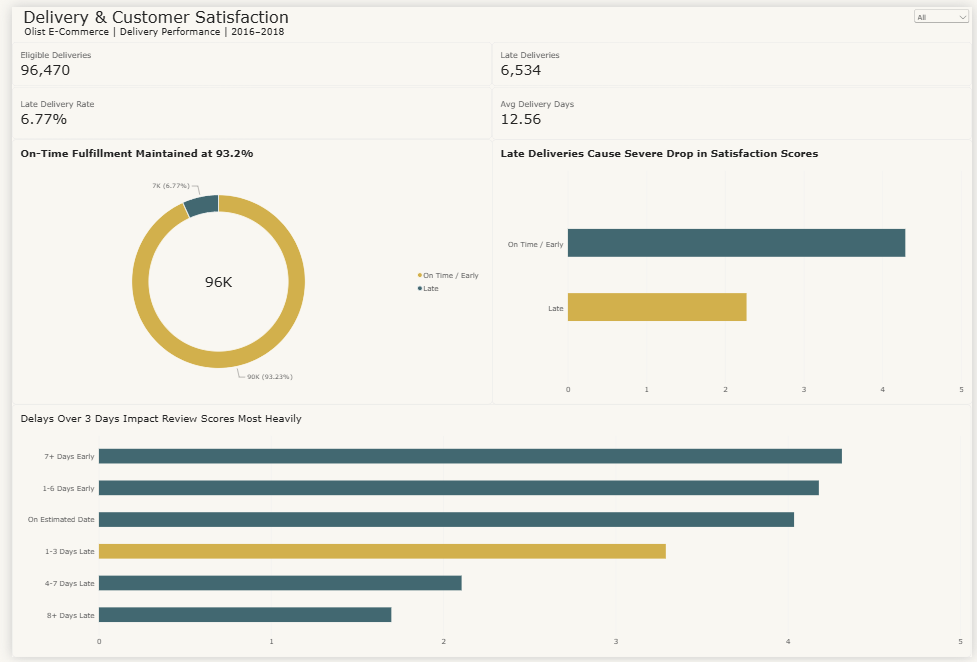

The page's visual inventory and layout, read from the dashboard file:
{"tool":"powerbi","page":{"name":"Delivery & Satisfaction","canvas":[1920,1300],"ordinal":3},"visuals":[{"type":"textbox","box":[0,0,1920,68],"z":0},{"type":"slicer","fields":{"Values":["Orders.purchase_year"]},"box":[1800.2,0,119.8,55.8],"z":1000},{"type":"cardVisual","fields":{"Data":["Buyer Segments.Eligible Deliveries"]},"box":[0,70.7,960.4,88.3],"z":2000},{"type":"cardVisual","fields":{"Data":["Buyer Segments.Late Deliveries"]},"box":[960.4,70.7,960.4,88.3],"z":3000},{"type":"cardVisual","fields":{"Data":["Buyer Segments.Late Delivery Rate"]},"box":[0,160,960,104],"z":4000},{"type":"cardVisual","fields":{"Data":["Buyer Segments.Avg Delivery Days"]},"box":[960.4,159,960.4,106],"z":5000},{"type":"donutChart","title":"On-Time Fulfillment Maintained at 93.2%","fields":{"Category":["Orders.delivery_status"],"Y":["Buyer Segments.Eligible Deliveries"]},"box":[0,264.9,960.4,529.9],"z":6000},{"type":"clusteredBarChart","title":"Late Deliveries Cause Severe Drop in Satisfaction Scores","fields":{"Category":["Orders.delivery_status"],"Y":["Buyer Segments.Avg Delivery Review Score"]},"box":[960.4,264.9,960.4,529.9],"z":7000},{"type":"clusteredBarChart","title":"Delays Over 3 Days Impact Review Scores Most Heavily","fields":{"Category":["Orders.Delivery Delay Category"],"Y":["Buyer Segments.Avg Delivery Review Score"]},"box":[0,794.8,1918.7,505.6],"z":8000}]}

Visuals, with their boxes in screenshot pixels (x1, y1, x2, y2), scaled from the page's 1920x1300 canvas onto the 977x662 screenshot:
textbox: {"left": 0, "top": 0, "right": 976, "bottom": 35}
slicer - Orders.purchase_year: {"left": 916, "top": 0, "right": 976, "bottom": 28}
cardVisual - Buyer Segments.Eligible Deliveries: {"left": 0, "top": 36, "right": 489, "bottom": 81}
cardVisual - Buyer Segments.Late Deliveries: {"left": 489, "top": 36, "right": 976, "bottom": 81}
cardVisual - Buyer Segments.Late Delivery Rate: {"left": 0, "top": 81, "right": 489, "bottom": 134}
cardVisual - Buyer Segments.Avg Delivery Days: {"left": 489, "top": 81, "right": 976, "bottom": 135}
"On-Time Fulfillment Maintained at 93.2%" donutChart: {"left": 0, "top": 135, "right": 489, "bottom": 405}
"Late Deliveries Cause Severe Drop in Satisfaction Scores" clusteredBarChart: {"left": 489, "top": 135, "right": 976, "bottom": 405}
"Delays Over 3 Days Impact Review Scores Most Heavily" clusteredBarChart: {"left": 0, "top": 405, "right": 976, "bottom": 661}
